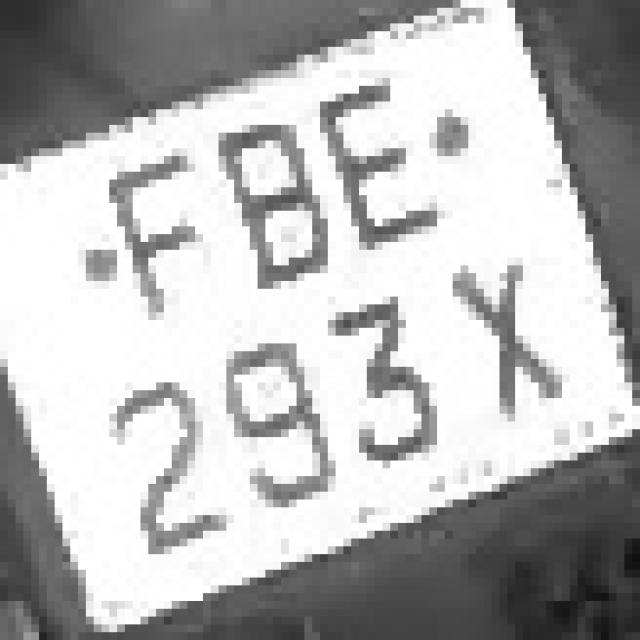2: (94, 359, 234, 578)
3: (296, 288, 452, 492)
9: (195, 336, 344, 538)
B: (210, 101, 336, 281)
E: (312, 78, 461, 273)
F: (86, 117, 226, 359)
X: (437, 234, 562, 445)
